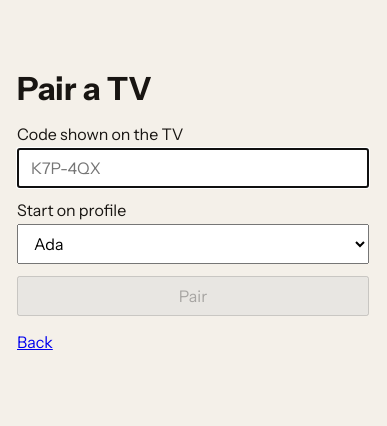
Test case: Pair › asks for the PIN of a protected profile
Type "K7P4QX" into the field labelled "Code shown on the TV" at (193, 168), box x1=17 y1=148 x2=369 y2=188
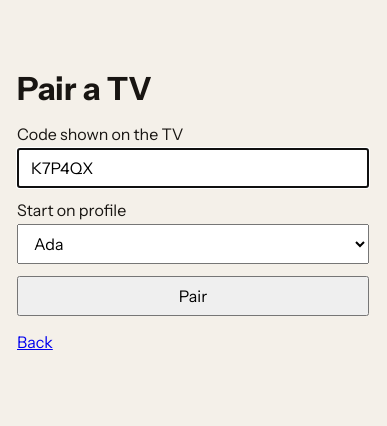
Select "Kids" in the dropdown labelled "Start on profile" at (193, 244), box x1=17 y1=224 x2=369 y2=264
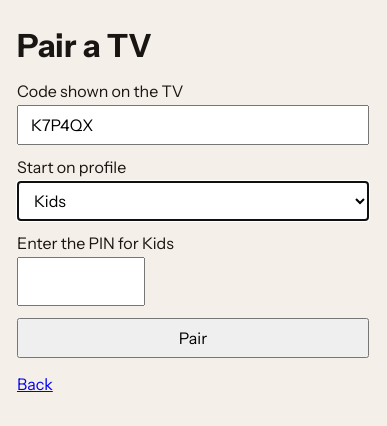
Type "4321" into the password field labelled "Enter the PIN for Kids" at (81, 282), box x1=17 y1=257 x2=145 y2=306
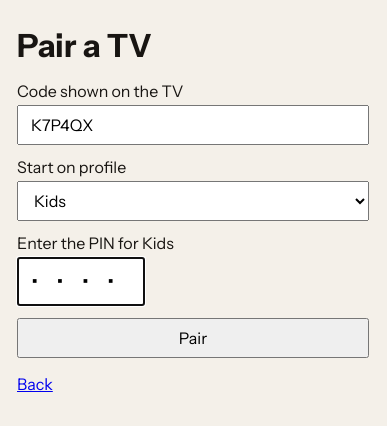
Click the button "Pair" at (193, 338), box x1=17 y1=318 x2=369 y2=358
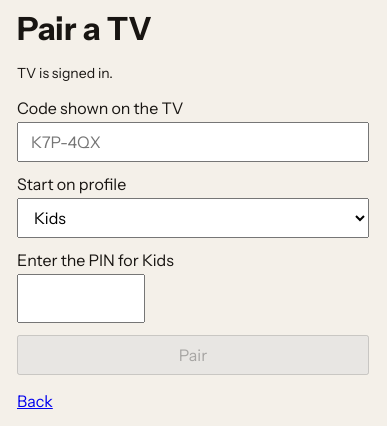
Expected: the message "TV is signed in." is shown, x1=17 y1=64 x2=113 y2=82
